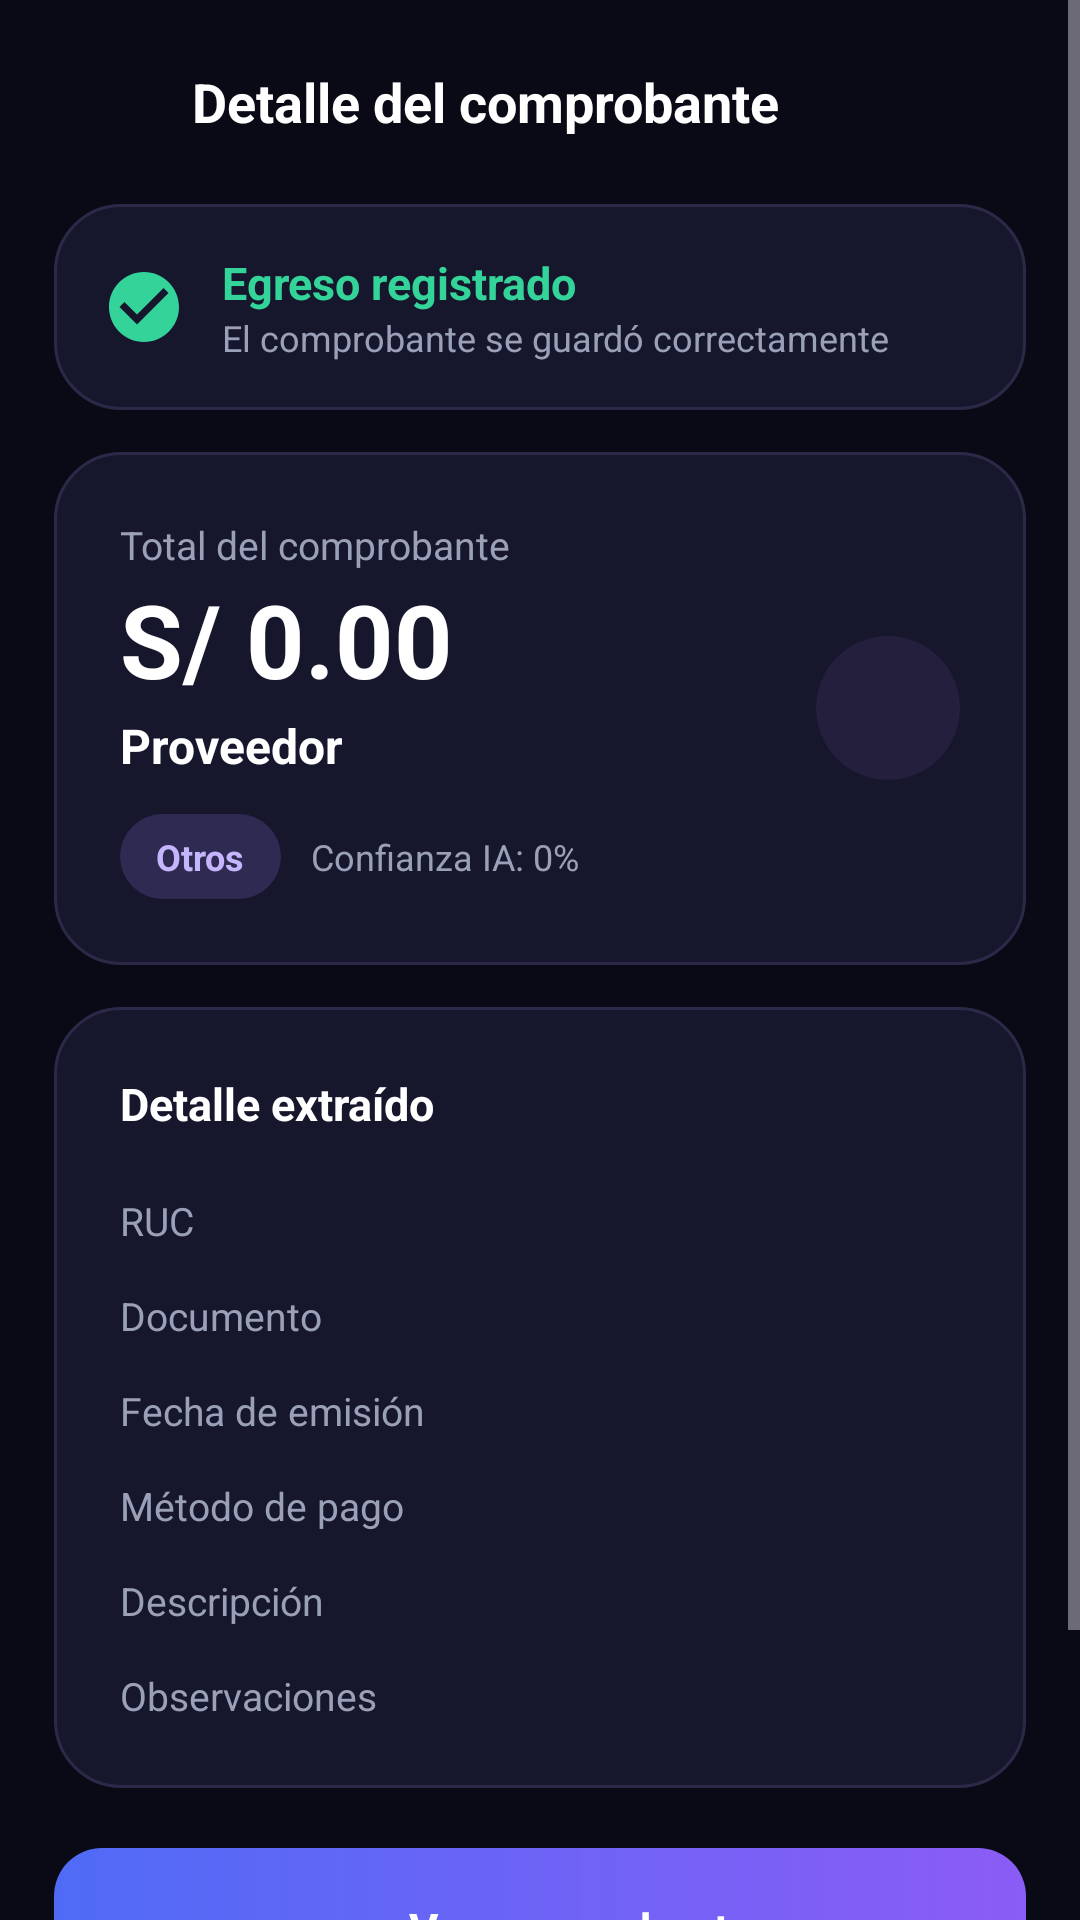

Screen size 1080*1920. Icon name, then its box in pixels as (x1, y1, x2, y2):
check circle: (109, 272, 179, 342)
